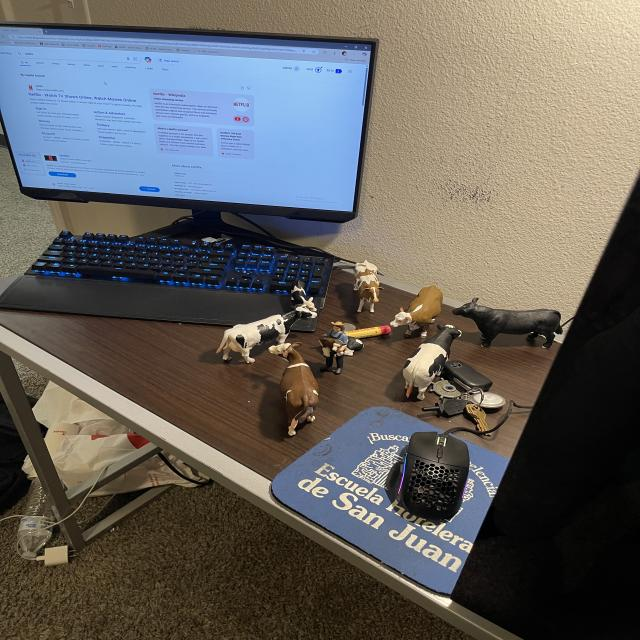cow: (210, 295, 326, 374), (447, 294, 565, 359), (389, 314, 466, 407), (260, 337, 330, 438), (388, 277, 454, 347), (283, 280, 320, 321), (353, 260, 380, 314), (318, 330, 348, 359)
person: (324, 319, 355, 348)
